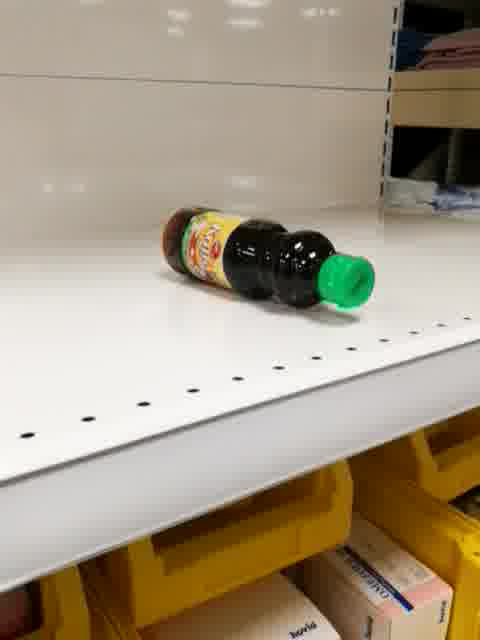cookingoil: (159, 204, 378, 312)
